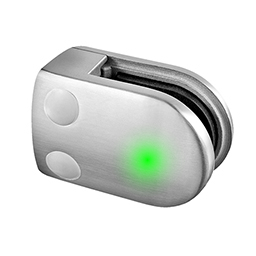focus: (119, 133, 175, 181)
